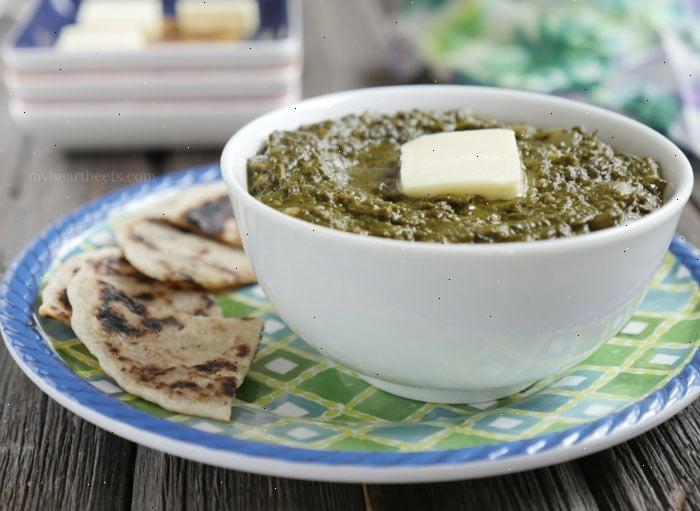saag: (245, 116, 675, 244)
